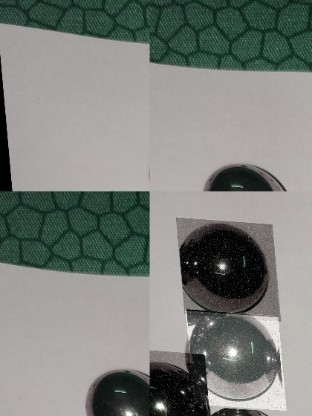ironball: (172, 215, 276, 317), (180, 308, 280, 407), (149, 345, 204, 415), (82, 363, 149, 414), (200, 156, 291, 191), (183, 399, 288, 415)
